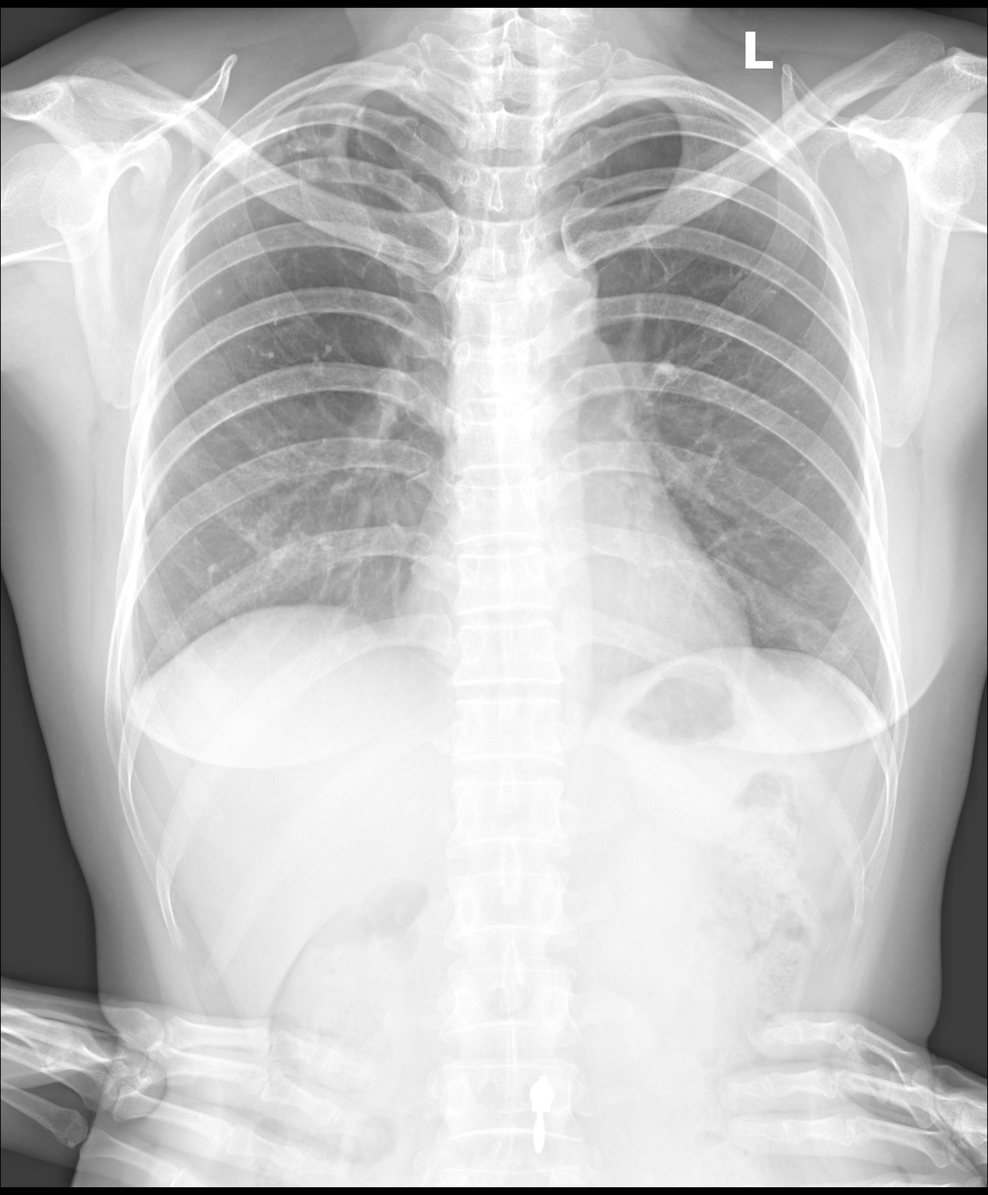Pulmonary fibrosis: (258, 105, 371, 183)
